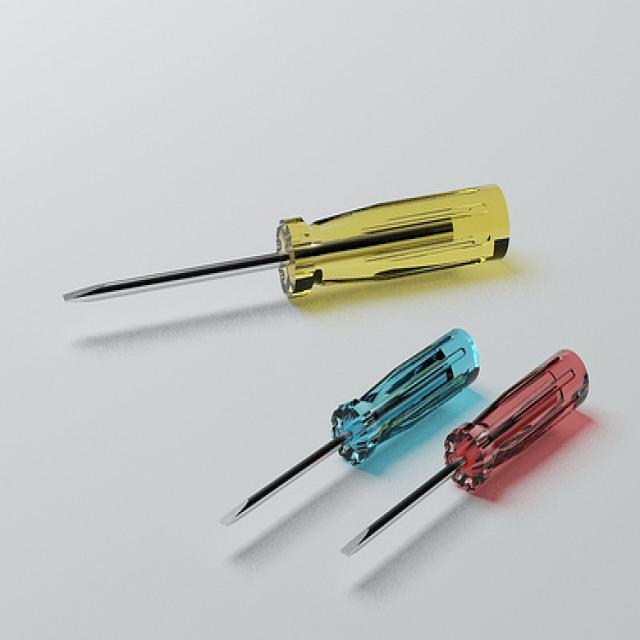screwdriver: (46, 174, 518, 336), (197, 325, 484, 545), (327, 341, 590, 577)
